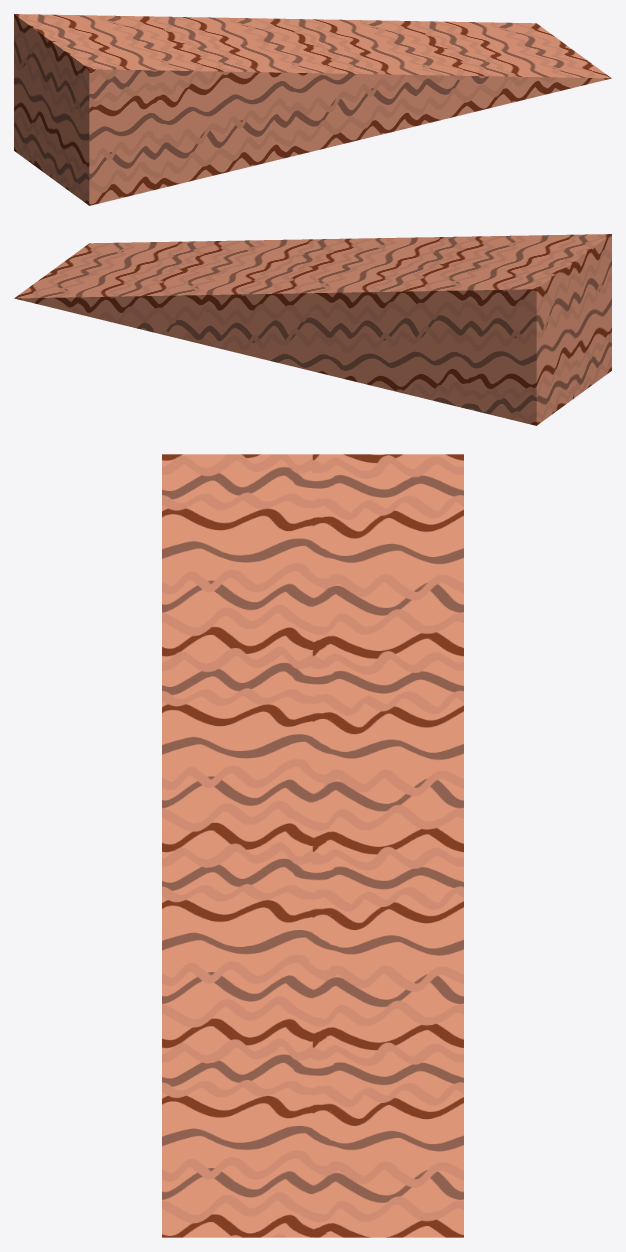
The model's file is a_z3_ground_05.fbx.
3 views of the same model, one above another, from view 1: azimuth 30°, elevation 25°; view 2: azimuth 150°, elevation 25°; view 3: azimuth 270°, elevation 25° (orthographic). The views are drawn at different scales.
Visible parts, largest first — view 1: a_z3_groundBlock_05; view 2: a_z3_groundBlock_05; view 3: a_z3_groundBlock_05.
Boxes of the visible parts, x1,y1,x2,y2 form: a_z3_groundBlock_05: (14,14,611,205); a_z3_groundBlock_05: (14,234,611,425); a_z3_groundBlock_05: (162,454,463,1237).
Bounding box in the file's own units: 1200 × 300 × 300.
Materials: 1 (1 with a texture image).
